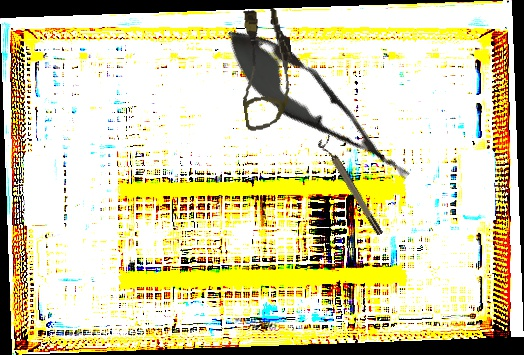Cannula: (230, 5, 302, 132)
Fixation Ring: (316, 134, 385, 240)
Micro Scissor: (209, 12, 426, 199)
